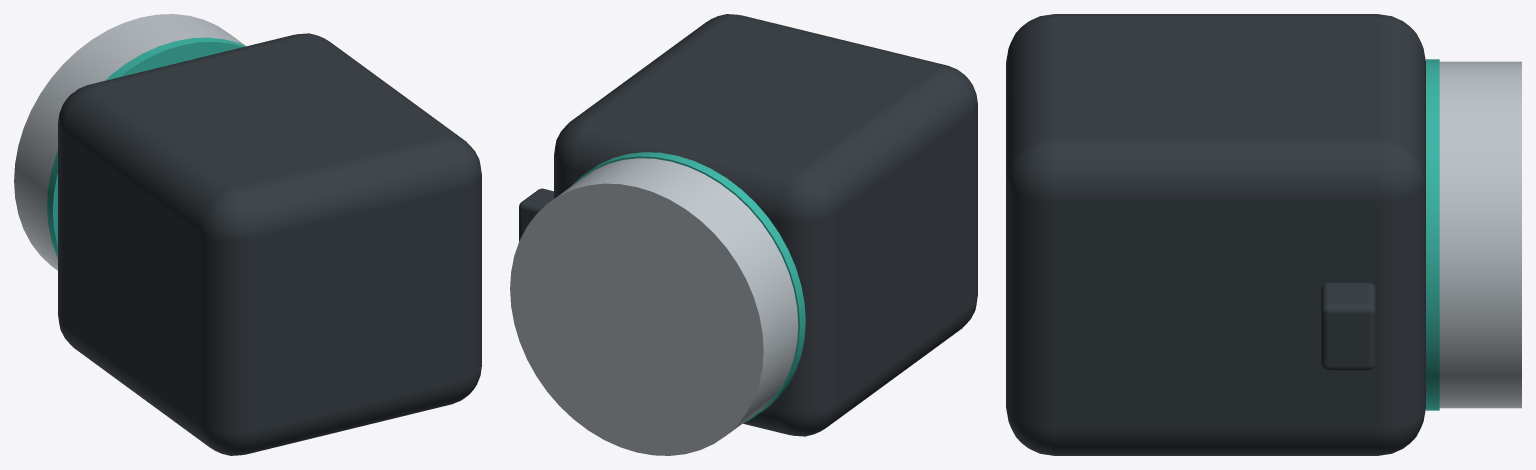
Rendered from mount.obj.
The picture shows the model from 3 angles, left to right: view 1: azimuth 30°, elevation 25°; view 2: azimuth 150°, elevation 25°; view 3: azimuth 270°, elevation 25°; orthographic projection. The views are drawn at different scales.
Visible parts, largest first — view 1: housing, robot_flange_clamp_ring, indicator_ring; view 2: housing, robot_flange_clamp_ring, indicator_ring, connector; view 3: housing, robot_flange_clamp_ring, indicator_ring, connector.
Boxes of the visible parts, bbox=[...] form: housing: bbox=[58, 33, 481, 455]; robot_flange_clamp_ring: bbox=[14, 14, 245, 270]; indicator_ring: bbox=[47, 37, 245, 257]; housing: bbox=[554, 14, 977, 436]; robot_flange_clamp_ring: bbox=[510, 158, 798, 455]; indicator_ring: bbox=[571, 152, 805, 422]; connector: bbox=[519, 188, 553, 241]; housing: bbox=[1006, 14, 1425, 455]; robot_flange_clamp_ring: bbox=[1439, 61, 1521, 408]; indicator_ring: bbox=[1426, 59, 1439, 410]; connector: bbox=[1321, 282, 1375, 370].
Size of the model in its own units: 0.096 by 0.077 by 0.113.
